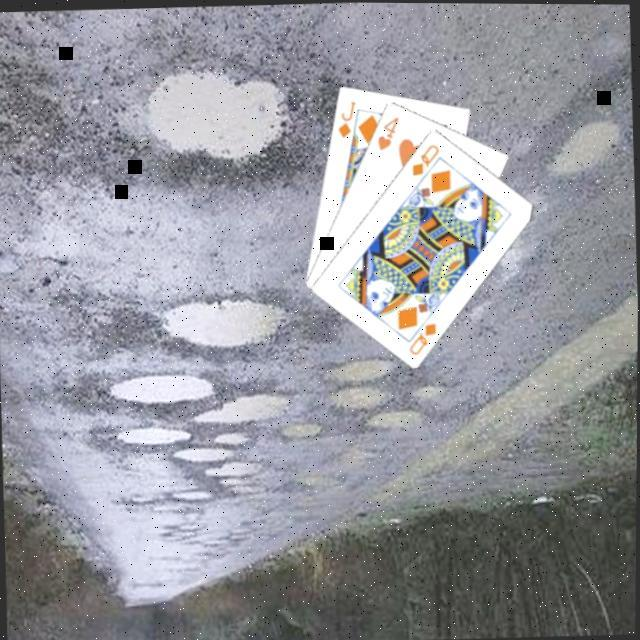4H: (374, 112, 403, 153)
JD: (334, 97, 359, 140)
QD: (405, 319, 440, 358), (408, 140, 443, 178)
